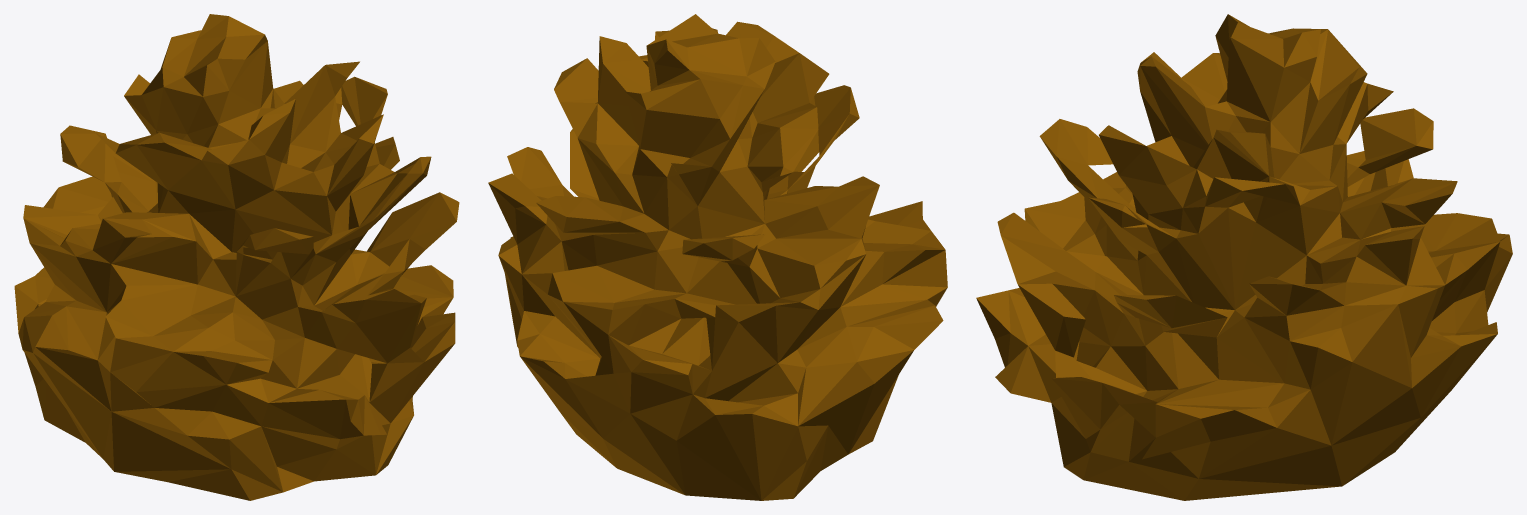
Rendered from pinecone_2_v000.glb.
3 renders of one model, left to right at view 1: azimuth 30°, elevation 25°; view 2: azimuth 150°, elevation 25°; view 3: azimuth 270°, elevation 25°, orthographic. The views are drawn at different scales.
Parts seen in each view (by area): view 1: world; view 2: world; view 3: world.
Boxes of the visible parts, x1=… form: world: x1=14, y1=14, x2=459, y2=500; world: x1=488, y1=14, x2=947, y2=500; world: x1=976, y1=14, x2=1512, y2=500.
Bounding box in the file's own units: 0.6122 × 0.5557 × 0.6475.
